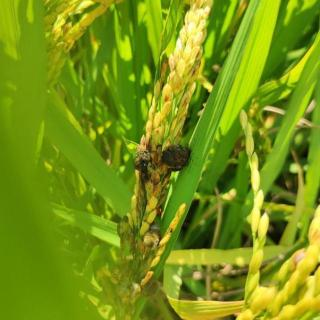Gosong-Palsu: (160, 141, 192, 171), (136, 270, 160, 298), (131, 148, 153, 173), (140, 227, 163, 250)
